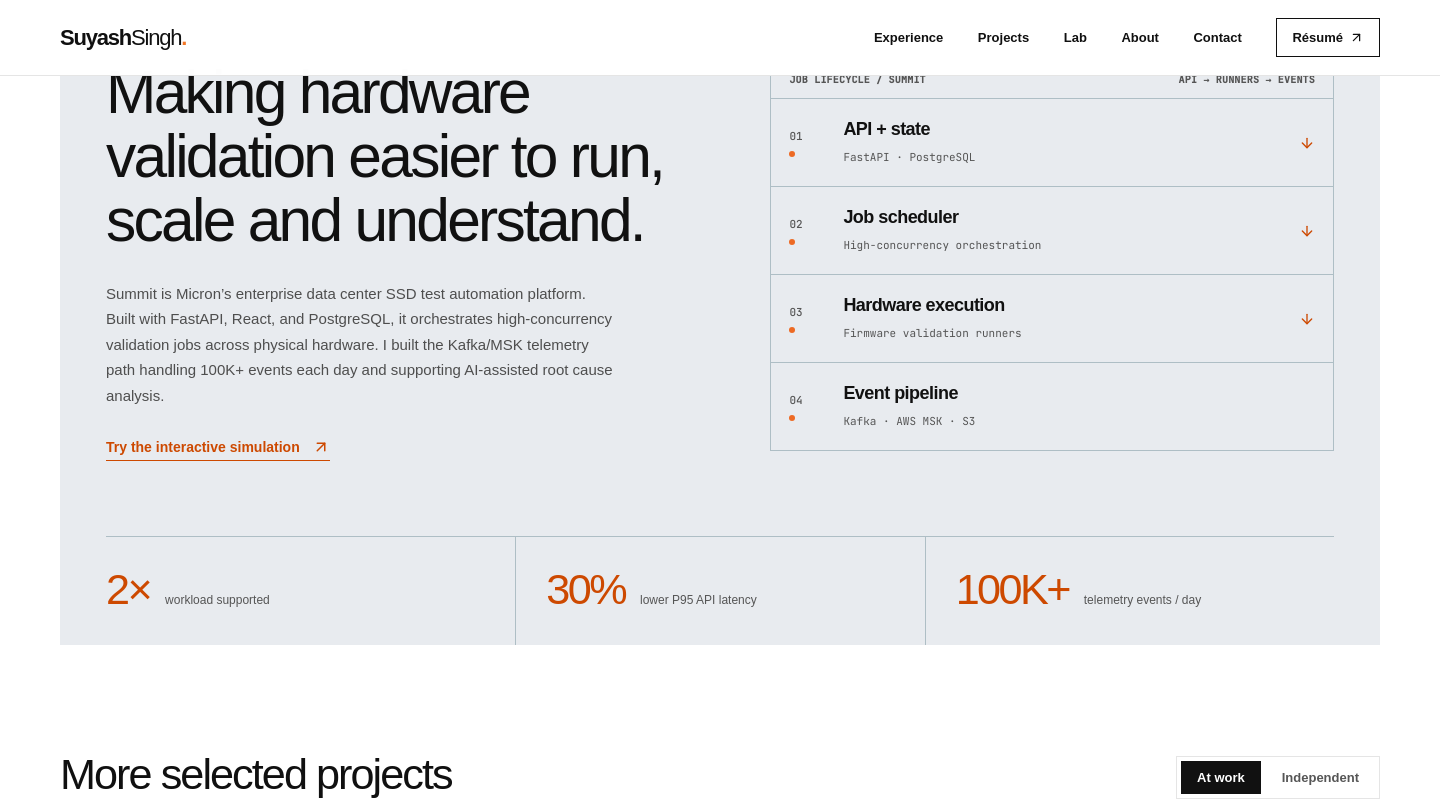
opens the simulator in place of the Summit diagram and restores the diagram
(page scrolled)
Expected: the text "API + state" is shown, [843,120,930,140]
Click the button "Try the interactive simulation": (218, 450) [106,438,330,461]
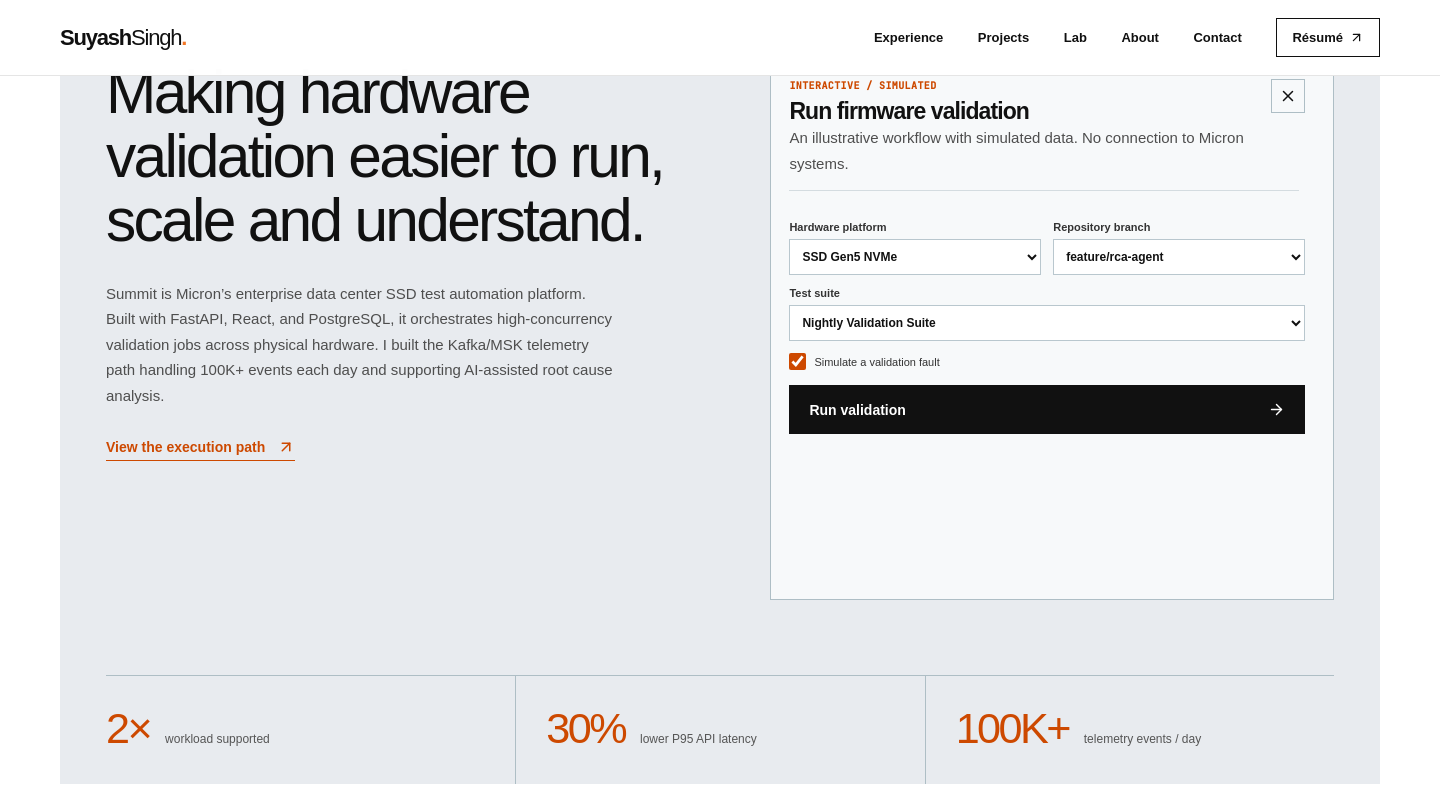
Expected: the text "API + state" is gone
Expected: the element named "Interactive firmware validation simulation" is shown, [770,60,1334,600]
Click the button named "Close simulation": (1288, 96) [1271,79,1305,113]
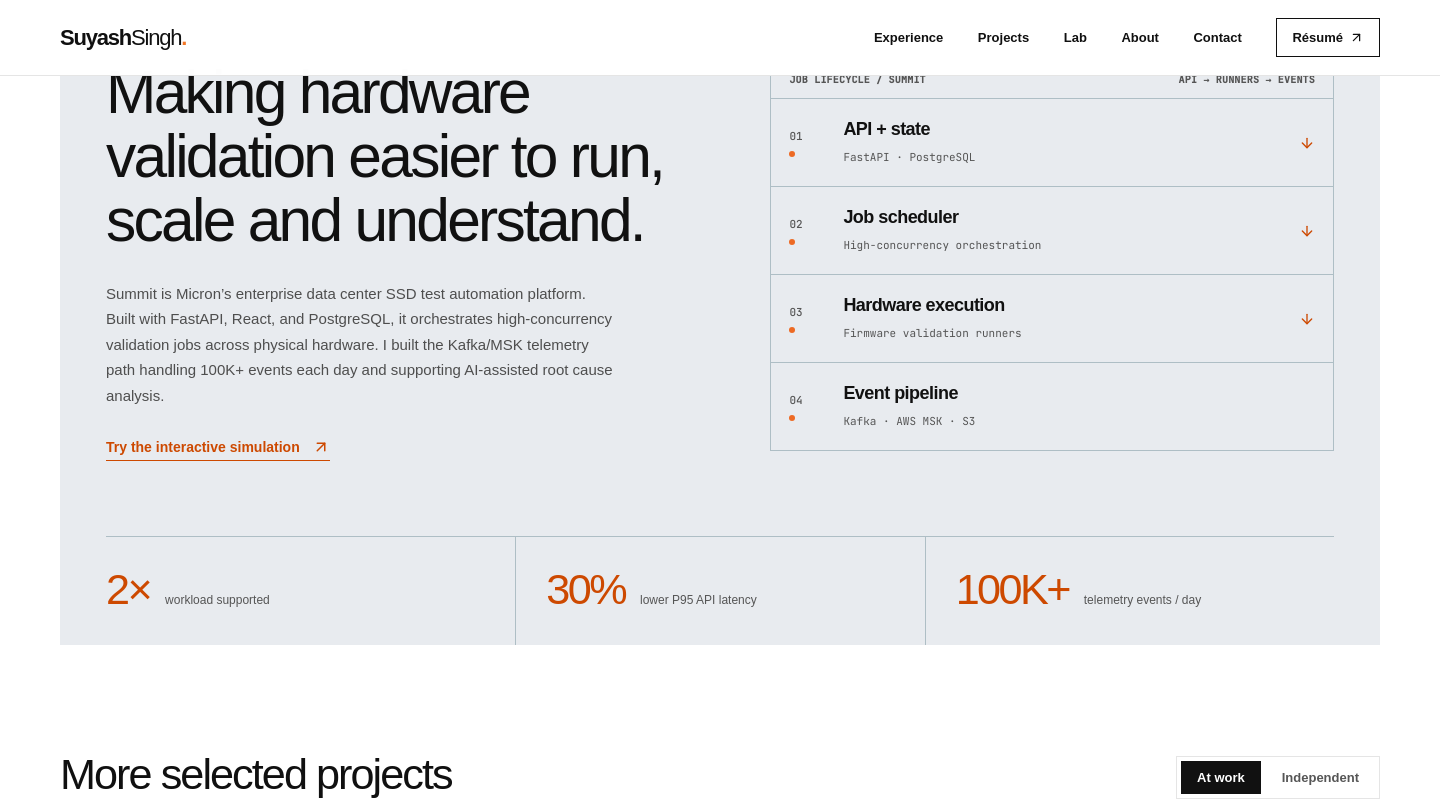
Expected: the text "API + state" is shown, [843,120,930,140]
